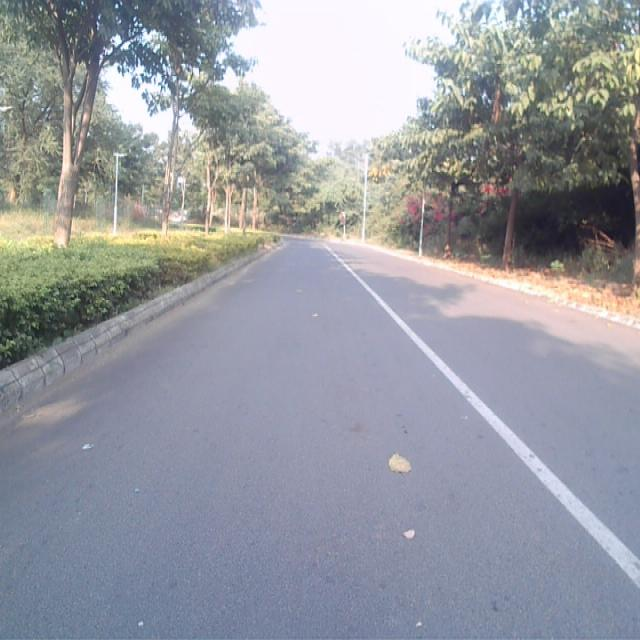lane: (0, 242, 640, 640)
